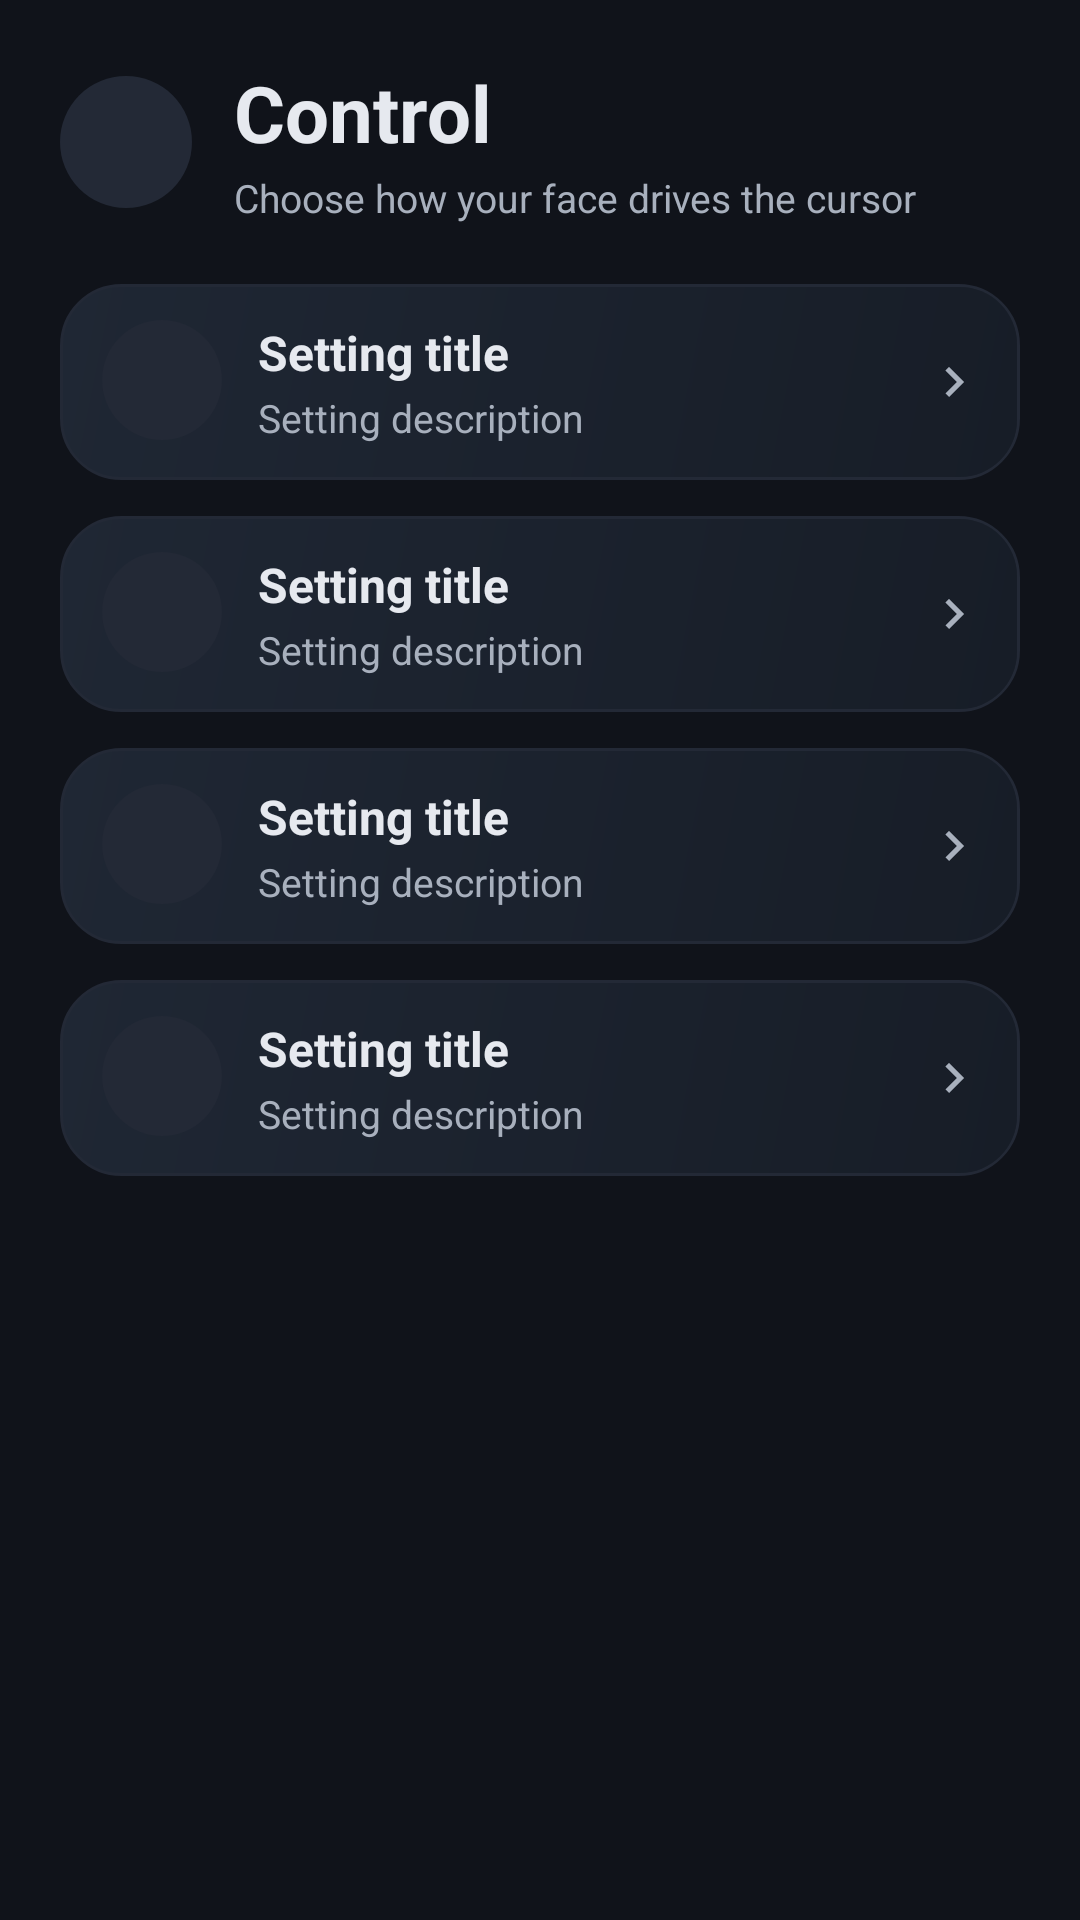

Icons on this 1080x1920 Android screen, each with its box as rect(x1, y1, x2, y2):
chevron right: rect(945, 367, 964, 397), rect(945, 599, 964, 629), rect(945, 831, 964, 861), rect(945, 1063, 964, 1093)
